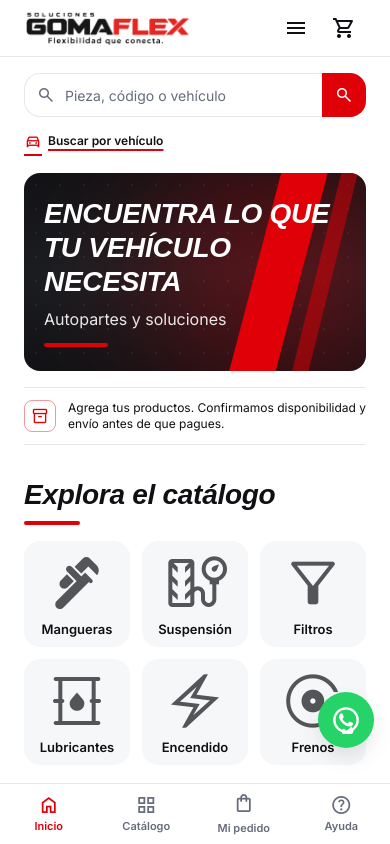
Scenario: Home (landing) › abre el panel del pedido desde el tab bar
Click the button "Mi pedido" at (244, 814), box [195, 784, 292, 843]
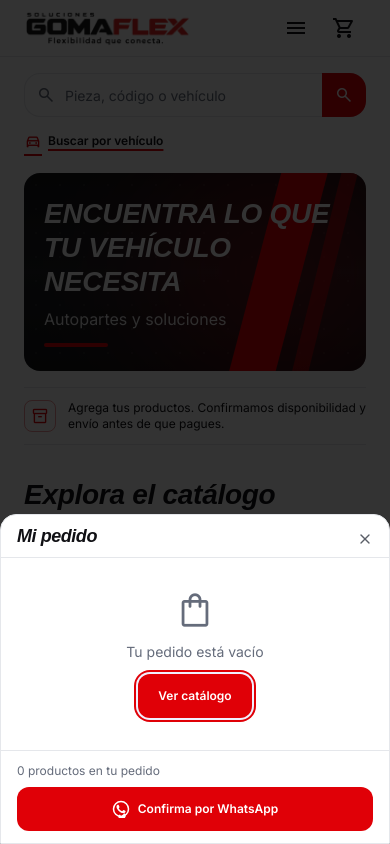
Result: the dialog is shown at [0, 514, 389, 843]
Result: the text "Tu pedido está vacío" is shown at [126, 642, 264, 662]
